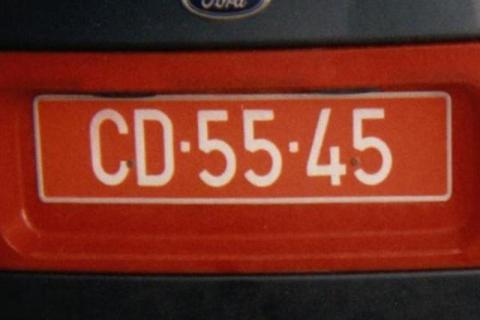LicensePlate: (23, 74, 460, 217)
